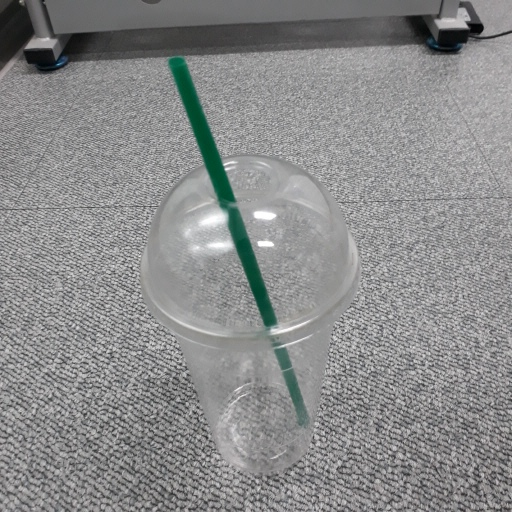Plastic_2: (135, 54, 361, 478)
